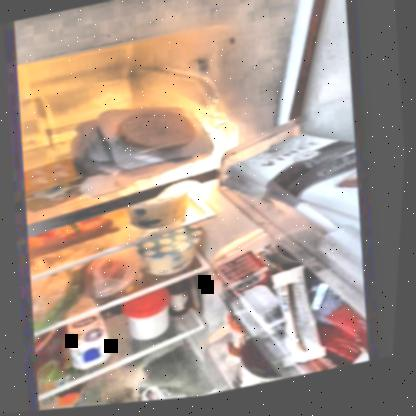butter: (20, 158, 88, 210)
carrot: (29, 217, 122, 256)
chocolate: (227, 133, 365, 239)
green_chillies: (33, 273, 94, 327)
milk: (63, 314, 119, 374)
salami: (90, 96, 213, 172)
tomato: (88, 258, 133, 293)
yoghurt: (134, 230, 210, 282), (128, 194, 193, 236)
